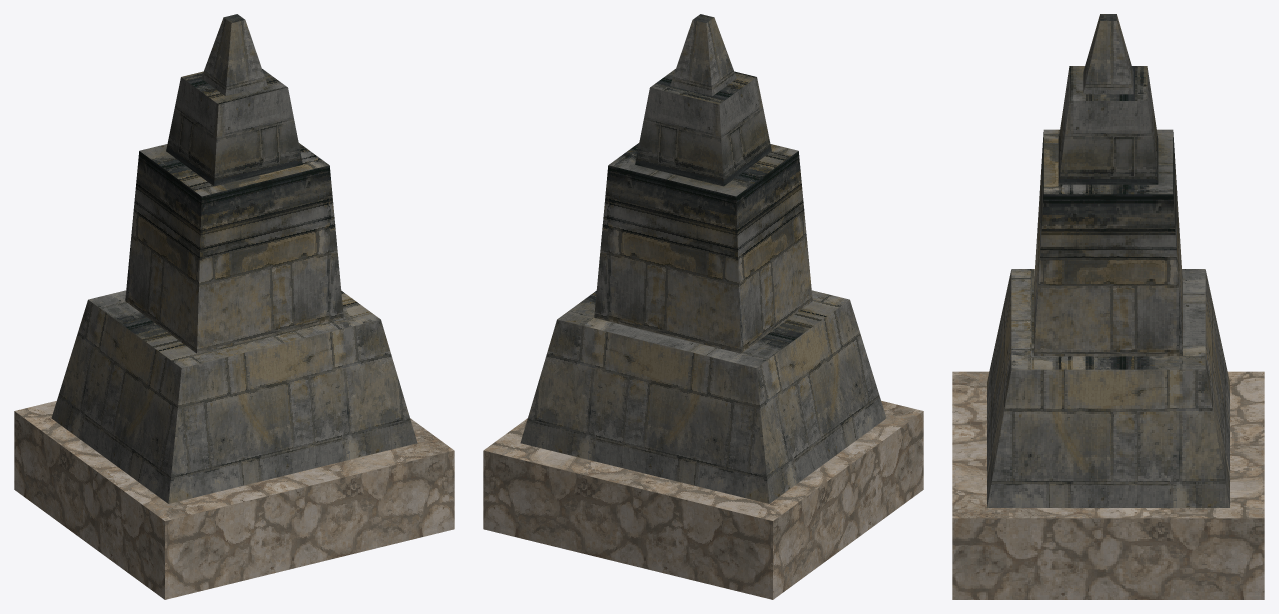
The model's file is temple_statue_seated.glb.
The picture shows the model from 3 angles, left to right: view 1: azimuth 30°, elevation 25°; view 2: azimuth 150°, elevation 25°; view 3: azimuth 270°, elevation 25°; orthographic projection. The views are drawn at different scales.
Visible parts, largest first — view 1: temple_statue_seated; view 2: temple_statue_seated; view 3: temple_statue_seated.
Boxes of the visible parts, x1,y1,x2,y2 form: temple_statue_seated: [14, 14, 454, 599]; temple_statue_seated: [483, 14, 923, 599]; temple_statue_seated: [952, 14, 1264, 599].
Bounding box in the file's own units: 1 × 1.62 × 0.9.
Materials: 2 (2 with a texture image).
